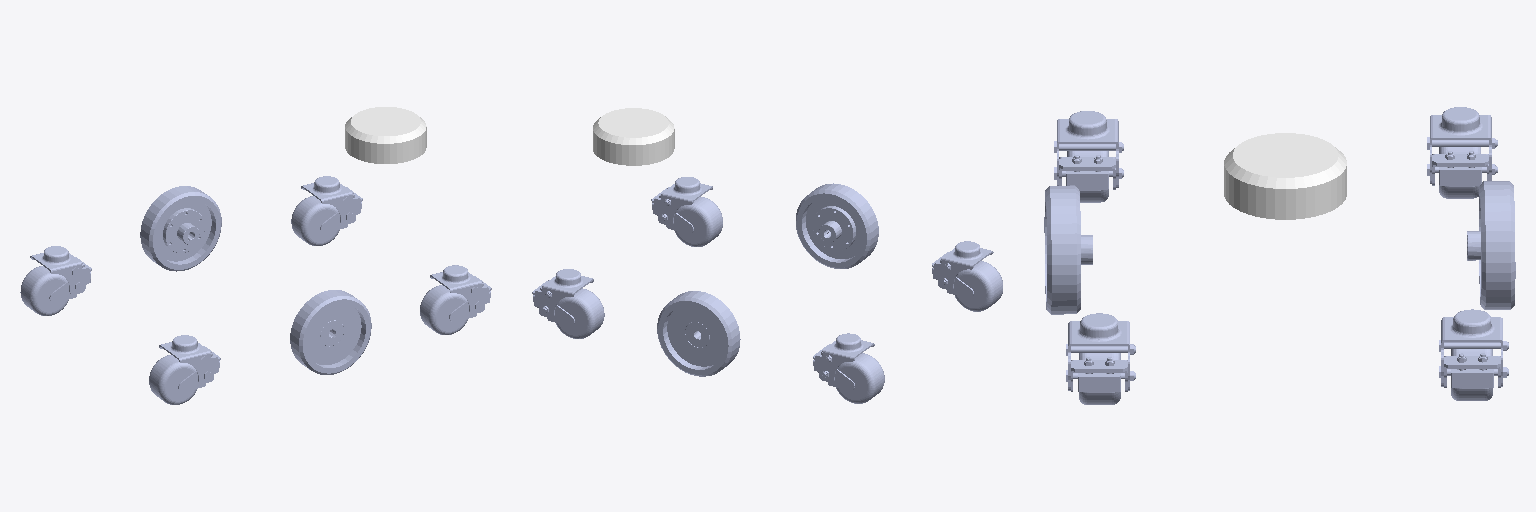
URDF robot description (amr_model):
<?xml version="1.0" encoding="utf-8"?>
<!-- This URDF was automatically created by SolidWorks to URDF Exporter! Originally created by [author] ([email redacted]) 
     Commit Version: 1.6.0-4-g7f85cfe  Build Version: 1.6.7995.38578
     For more information, please see http://wiki.ros.org/sw_urdf_exporter -->
<robot name="amr_model">
  <!--xacro:include filename="$(find amr_description)/urdf/amr_model.gazebo.xacro"/-->
  

  <link name="base_footprint"/>

  <link
  name="base_link">
  <inertial>
    <origin
      xyz="0.014554 0.00016485 0.10329"
      rpy="0 0 0" />
    <mass
      value="23.478" />
    <inertia
      ixx="0.18885"
      ixy="0.00049266"
      ixz="0.00020396"
      iyy="0.16875"
      iyz="-1.6092E-06"
      izz="0.23165" />
  </inertial>
  <visual>
    <origin
      xyz="0 0 0"
      rpy="0 0 0" />
    <geometry>
      <mesh
        filename="package://amr_description/meshes/base_link.STL" />
    </geometry>
    <material
      name="">
      <color
        rgba="0.79216 0.81961 0.93333 1" />
    </material>
  </visual>
  <collision>
    <origin
      xyz="0 0 0"
      rpy="0 0 0" />
    <geometry>
      <mesh
        filename="package://amr_description/meshes/base_link.STL" />
    </geometry>
  </collision>
</link>

<joint name="base_footprint_joint" type="fixed" >
  <parent link="base_footprint"/>
  <child link="base_link"/>
  <origin xyz="0.0 0.0 0.0225" rpy="0.0 0.0 0.0"/>
</joint>  

<link
  name="left_wheel_link">
  <inertial>
    <origin
      xyz="-5.9137E-06 9.0517E-06 -0.0021218"
      rpy="0 0 0" />
    <mass
      value="0.42831" />
    <inertia
      ixx="0.00075914"
      ixy="-1.8039E-08"
      ixz="-3.3253E-08"
      iyy="0.00075916"
      iyz="5.0898E-08"
      izz="0.001427" />
  </inertial>
  <visual>
    <origin
      xyz="0 0 0"
      rpy="0 0 0" />
    <geometry>
      <mesh
        filename="package://amr_description/meshes/left_wheel_link.STL" />
    </geometry>
    <material
      name="">
      <color
        rgba="0.79216 0.81961 0.93333 1" />
    </material>
  </visual>
  <collision>
    <origin
      xyz="0 0 0"
      rpy="0 0 0" />
    <geometry>
      <mesh
        filename="package://amr_description/meshes/left_wheel_link.STL" />
    </geometry>
  </collision>
</link>

<joint
  name="left_wheel_joint"
  type="continuous">
  <origin
    xyz="-0.0062617 0.25592 0.0535"
    rpy="1.5708 0 -3.1171" />
  <parent
    link="base_link" />
  <child
    link="left_wheel_link" />
  <axis
    xyz="0 0 1" />
</joint>

<link
  name="right_wheel_link">
  <inertial>
    <origin
      xyz="6.2045E-06 8.855E-06 0.0021218"
      rpy="0 0 0" />
    <mass
      value="0.42831" />
    <inertia
      ixx="0.00075914"
      ixy="1.8515E-08"
      ixz="-3.4888E-08"
      iyy="0.00075916"
      iyz="-4.9791E-08"
      izz="0.001427" />
  </inertial>
  <visual>
    <origin
      xyz="0 0 0"
      rpy="0 0 0" />
    <geometry>
      <mesh
        filename="package://amr_description/meshes/right_wheel_link.STL" />
    </geometry>
    <material
      name="">
      <color
        rgba="0.79216 0.81961 0.93333 1" />
    </material>
  </visual>
  <collision>
    <origin
      xyz="0 0 0"
      rpy="0 0 0" />
    <geometry>
      <mesh
        filename="package://amr_description/meshes/right_wheel_link.STL" />
    </geometry>
  </collision>
</link>
<joint
  name="right_wheel_joint"
  type="continuous">
  <origin
    xyz="0.0062617 -0.25592 0.0535"
    rpy="1.5708 0 -3.1171" />
  <parent
    link="base_link" />
  <child
    link="right_wheel_link" />
  <axis
    xyz="0 0 1" />
</joint>
<link
  name="caster1_link">
  <inertial>
    <origin
      xyz="-0.013313 -0.00013952 -0.03353"
      rpy="0 0 0" />
    <mass
      value="0.17421" />
    <inertia
      ixx="0.00016022"
      ixy="3.8557E-09"
      ixz="-5.136E-06"
      iyy="0.0001233"
      iyz="1.5883E-10"
      izz="0.00018347" />
  </inertial>
  <visual>
    <origin
      xyz="0 0 0"
      rpy="0 0 0" />
    <geometry>
      <mesh
        filename="package://amr_description/meshes/caster1_link.STL" />
    </geometry>
    <material
      name="">
      <color
        rgba="0.79216 0.81961 0.93333 1" />
    </material>
  </visual>
  <collision>
    <origin
      xyz="0 0 0"
      rpy="0 0 0" />
    <geometry>
      <mesh
        filename="package://amr_description/meshes/caster1_link.STL" />
    </geometry>
  </collision>
</link>
<joint
  name="caster1_joint"
  type="continuous">
  <origin
    xyz="0.2878 -0.21302 0.0935"
    rpy="0 0 3.1416" />
  <parent
    link="base_link" />
  <child
    link="caster1_link" />
  <axis
    xyz="0 0 1" />
</joint>
<link
  name="caster1_wheel_link">
  <inertial>
    <origin
      xyz="-8.1046E-15 2.2204E-16 -2.1372E-15"
      rpy="0 0 0" />
    <mass
      value="0.26385" />
    <inertia
      ixx="0.00016528"
      ixy="3.735E-21"
      ixz="4.6341E-20"
      iyy="0.00016528"
      iyz="1.6485E-20"
      izz="0.0002273" />
  </inertial>
  <visual>
    <origin
      xyz="0 0 0"
      rpy="0 0 0" />
    <geometry>
      <mesh
        filename="package://amr_description/meshes/caster1_wheel_link.STL" />
    </geometry>
    <material
      name="">
      <color
        rgba="0.79216 0.81961 0.93333 1" />
    </material>
  </visual>
  <collision>
    <origin
      xyz="0 0 0"
      rpy="0 0 0" />
    <geometry>
      <mesh
        filename="package://amr_description/meshes/caster1_wheel_link.STL" />
    </geometry>
  </collision>
</link>
<joint
  name="caster1_wheel_joint"
  type="continuous">
  <origin
    xyz="0.0215 -0.0005 -0.074"
    rpy="-1.5708 0 0" />
  <parent
    link="caster1_link" />
  <child
    link="caster1_wheel_link" />
  <axis
    xyz="0 0 1" />
</joint>

<link
  name="caster2_link">
  <inertial>
    <origin
      xyz="-0.013313 -0.00013953 -0.03353"
      rpy="0 0 0" />
    <mass
      value="0.17421" />
    <inertia
      ixx="0.00016022"
      ixy="3.8383E-09"
      ixz="-5.136E-06"
      iyy="0.0001233"
      iyz="1.4002E-10"
      izz="0.00018347" />
  </inertial>
  <visual>
    <origin
      xyz="0 0 0"
      rpy="0 0 0" />
    <geometry>
      <mesh
        filename="package://amr_description/meshes/caster2_link.STL" />
    </geometry>
    <material
      name="">
      <color
        rgba="0.79216 0.81961 0.93333 1" />
    </material>
  </visual>
  <collision>
    <origin
      xyz="0 0 0"
      rpy="0 0 0" />
    <geometry>
      <mesh
        filename="package://amr_description/meshes/caster2_link.STL" />
    </geometry>
  </collision>
</link>
<joint
  name="caster2_joint"
  type="continuous">
  <origin
    xyz="-0.27703 -0.22684 0.0935"
    rpy="0 0 3.1416" />
  <parent
    link="base_link" />
  <child
    link="caster2_link" />
  <axis
    xyz="0 0 1" />
</joint>
<link
  name="caster2_wheel_link">
  <inertial>
    <origin
      xyz="-8.9789E-15 0 -7.3552E-16"
      rpy="0 0 0" />
    <mass
      value="0.26385" />
    <inertia
      ixx="0.00016528"
      ixy="-3.2044E-22"
      ixz="-8.6895E-21"
      iyy="0.00016528"
      iyz="1.61E-20"
      izz="0.0002273" />
  </inertial>
  <visual>
    <origin
      xyz="0 0 0"
      rpy="0 0 0" />
    <geometry>
      <mesh
        filename="package://amr_description/meshes/caster2_wheel_link.STL" />
    </geometry>
    <material
      name="">
      <color
        rgba="0.79216 0.81961 0.93333 1" />
    </material>
  </visual>
  <collision>
    <origin
      xyz="0 0 0"
      rpy="0 0 0" />
    <geometry>
      <mesh
        filename="package://amr_description/meshes/caster2_wheel_link.STL" />
    </geometry>
  </collision>
</link>
<joint
  name="caster2_wheel_joint"
  type="continuous">
  <origin
    xyz="0.0215 -0.0005 -0.074"
    rpy="-1.5708 0 0" />
  <parent
    link="caster2_link" />
  <child
    link="caster2_wheel_link" />
  <axis
    xyz="0 0 1" />
</joint>
<link
  name="caster3_link">
  <inertial>
    <origin
      xyz="-0.013313 -0.00013953 -0.03353"
      rpy="0 0 0" />
    <mass
      value="0.17421" />
    <inertia
      ixx="0.00016022"
      ixy="3.8392E-09"
      ixz="-5.136E-06"
      iyy="0.0001233"
      iyz="1.3855E-10"
      izz="0.00018347" />
  </inertial>
  <visual>
    <origin
      xyz="0 0 0"
      rpy="0 0 0" />
    <geometry>
      <mesh
        filename="package://amr_description/meshes/caster3_link.STL" />
    </geometry>
    <material
      name="">
      <color
        rgba="0.79216 0.81961 0.93333 1" />
    </material>
  </visual>
  <collision>
    <origin
      xyz="0 0 0"
      rpy="0 0 0" />
    <geometry>
      <mesh
        filename="package://amr_description/meshes/caster3_link.STL" />
    </geometry>
  </collision>
</link>
<joint
  name="caster3_joint"
  type="continuous">
  <origin
    xyz="-0.2878 0.21302 0.0935"
    rpy="0 0 3.1416" />
  <parent
    link="base_link" />
  <child
    link="caster3_link" />
  <axis
    xyz="0 0 1" />
</joint>
<link
  name="caster3_wheel_link">
  <inertial>
    <origin
      xyz="-8.6459E-15 -8.3267E-17 9.992E-16"
      rpy="0 0 0" />
    <mass
      value="0.26385" />
    <inertia
      ixx="0.00016528"
      ixy="1.5381E-20"
      ixz="8.085E-21"
      iyy="0.00016528"
      iyz="-1.2328E-20"
      izz="0.0002273" />
  </inertial>
  <visual>
    <origin
      xyz="0 0 0"
      rpy="0 0 0" />
    <geometry>
      <mesh
        filename="package://amr_description/meshes/caster3_wheel_link.STL" />
    </geometry>
    <material
      name="">
      <color
        rgba="0.79216 0.81961 0.93333 1" />
    </material>
  </visual>
  <collision>
    <origin
      xyz="0 0 0"
      rpy="0 0 0" />
    <geometry>
      <mesh
        filename="package://amr_description/meshes/caster3_wheel_link.STL" />
    </geometry>
  </collision>
</link>
<joint
  name="caster3_wheel_joint"
  type="continuous">
  <origin
    xyz="0.0215000000000007 0.000499999999999723 -0.0739999999999998"
    rpy="1.5707963267949 0 0" />
  <parent
    link="caster3_link" />
  <child
    link="caster3_wheel_link" />
  <axis
    xyz="0 0 1" />
</joint>
<link
  name="caster4_link">
  <inertial>
    <origin
      xyz="-0.013313 -0.00013952 -0.03353"
      rpy="0 0 0" />
    <mass
      value="0.17421" />
    <inertia
      ixx="0.00016022"
      ixy="3.8579E-09"
      ixz="-5.136E-06"
      iyy="0.0001233"
      iyz="1.5609E-10"
      izz="0.00018347" />
  </inertial>
  <visual>
    <origin
      xyz="0 0 0"
      rpy="0 0 0" />
    <geometry>
      <mesh
        filename="package://amr_description/meshes/caster4_link.STL" />
    </geometry>
    <material
      name="">
      <color
        rgba="0.79216 0.81961 0.93333 1" />
    </material>
  </visual>
  <collision>
    <origin
      xyz="0 0 0"
      rpy="0 0 0" />
    <geometry>
      <mesh
        filename="package://amr_description/meshes/caster4_link.STL" />
    </geometry>
  </collision>
</link>
<joint
  name="caster4_joint"
  type="continuous">
  <origin
    xyz="0.27703 0.22684 0.0935"
    rpy="0 0 3.1416" />
  <parent
    link="base_link" />
  <child
    link="caster4_link" />
  <axis
    xyz="0 0 1" />
</joint>
<link
  name="caster4_wheel_link">
  <inertial>
    <origin
      xyz="-9.3814E-15 5.5511E-17 2.7756E-15"
      rpy="0 0 0" />
    <mass
      value="0.26385" />
    <inertia
      ixx="0.00016528"
      ixy="-8.3685E-22"
      ixz="-3.0215E-20"
      iyy="0.00016528"
      iyz="-2.2882E-20"
      izz="0.0002273" />
  </inertial>
  <visual>
    <origin
      xyz="0 0 0"
      rpy="0 0 0" />
    <geometry>
      <mesh
        filename="package://amr_description/meshes/caster4_wheel_link.STL" />
    </geometry>
    <material
      name="">
      <color
        rgba="0.79216 0.81961 0.93333 1" />
    </material>
  </visual>
  <collision>
    <origin
      xyz="0 0 0"
      rpy="0 0 0" />
    <geometry>
      <mesh
        filename="package://amr_description/meshes/caster4_wheel_link.STL" />
    </geometry>
  </collision>
</link>
<joint
  name="caster4_wheel_joint"
  type="continuous">
  <origin
    xyz="0.0215 0.0005 -0.074"
    rpy="1.5708 0 0" />
  <parent
    link="caster4_link" />
  <child
    link="caster4_wheel_link" />
  <axis
    xyz="0 0 1" />
</joint>
<link
  name="lidar_link">
  <inertial>
    <origin
      xyz="0 0 -0.02"
      rpy="0 0 0" />
    <mass
      value="0" />
    <inertia
      ixx="0"
      ixy="0"
      ixz="0"
      iyy="0"
      iyz="0"
      izz="0" />
  </inertial>
  <visual>
    <origin
      xyz="0 0 -0.02"
      rpy="0 0 0" />
    <geometry>
      <mesh
        filename="package://amr_description/meshes/lidar_link.STL" />
    </geometry>
    <material
      name="">
      <color
        rgba="1 1 1 1" />
    </material>
  </visual>
  <!--collision>
    <origin
      xyz="0 0 -0.02"
      rpy="0 0 0" />
    <geometry>
      <mesh
        filename="package://amr_description/meshes/lidar_link.STL" />
    </geometry>
  </collision>
-->
</link>
<joint
  name="lidar_joint"
  type="fixed">
  <origin
    xyz="0.27091 0.0066283 0.27"
    rpy="0 0 0" />
  <parent
    link="base_link" />
  <child
    link="lidar_link" />
  <axis
    xyz="0 0 1" />
</joint>

  <!--IMU-->
  <link name="imu_link"/>  
  <joint name="imu_joint" type="fixed" >
    <parent link="base_link"/>
    <child link="imu_link"/>
    <origin xyz="0.014527 -0.00019118 0.1033" rpy="0 0 0" />
  </joint>
    



  <gazebo reference="base_link">
    <material>Gazebo/White</material>
</gazebo>  

<gazebo reference="left_wheel_link">
    <mu1>1</mu1>
    <mu2>1</mu2>
    <kp>1000000.0</kp>
    <kd>10.0</kd>
    <minDepth>0.001</minDepth>
    <maxVel>0.1</maxVel>
    <fdir1>1 0 0</fdir1>
    <material>Gazebo/ZincYellow</material>
  </gazebo>

  <gazebo reference="right_wheel_link">
    <mu1>1.0</mu1>
    <mu2>1.0</mu2>
    <kp>1000000.0</kp>
    <kd>10.0</kd>
    <minDepth>0.001</minDepth>
    <maxVel>0.1</maxVel>
    <fdir1>1 0 0</fdir1>
    <material>Gazebo/ZincYellow</material>
  </gazebo>

  <gazebo reference="caster1_link">
    <mu1>0.01</mu1>
    <mu2>0.01</mu2>
    <kp>500000.0</kp>
    <kd>10.0</kd>
    <material>Gazebo/FlatBlack</material>
  </gazebo>
  <gazebo reference="caster2_link">
    <mu1>0.01</mu1>
    <mu2>0.01</mu2>
    <kp>500000.0</kp>
    <kd>10.0</kd>
    <material>Gazebo/FlatBlack</material>
  </gazebo>
  <gazebo reference="caster3_link"> 
    <mu1>0.01</mu1>
    <mu2>0.01</mu2>
    <kp>500000.0</kp>
    <kd>10.0</kd>
    <material>Gazebo/FlatBlack</material>
  </gazebo>
  <gazebo reference="caster4_link">
    <mu1>0.01</mu1>
    <mu2>0.01</mu2>
    <kp>500000.0</kp>
    <kd>10.0</kd>
    <material>Gazebo/FlatBlack</material>
  </gazebo>

  <gazebo reference="caster1_wheel_link">
    <mu1>0.3</mu1>
    <mu2>0.3</mu2>
    <kp>500000.0</kp>
    <kd>10.0</kd>
    <minDepth>0.001</minDepth>
    <maxVel>0.1</maxVel>
    <fdir1>1 0 0</fdir1>
    <material>Gazebo/ZincYellow</material>
  </gazebo>      
  <gazebo reference="caster2_wheel_link">
    <mu1>0.3</mu1>
    <mu2>0.3</mu2>
    <kp>500000.0</kp>
    <kd>10.0</kd>
    <minDepth>0.001</minDepth>
    <maxVel>0.1</maxVel>
    <fdir1>1 0 0</fdir1>
    <material>Gazebo/ZincYellow</material>
  </gazebo>
  <gazebo reference="caster3_wheel_link">
    <mu1>0.3</mu1>
    <mu2>0.3</mu2>
    <kp>500000.0</kp>
    <kd>10.0</kd>
    <minDepth>0.001</minDepth>
    <maxVel>0.1</maxVel>
    <fdir1>1 0 0</fdir1>
    <material>Gazebo/ZincYellow</material>
  </gazebo>
  <gazebo reference="caster4_wheel_link">
    <mu1>0.3</mu1>
    <mu2>0.3</mu2>
    <kp>500000.0</kp>
    <kd>10.0</kd>
    <minDepth>0.001</minDepth>
    <maxVel>0.1</maxVel>
    <fdir1>1 0 0</fdir1>
    <material>Gazebo/ZincYellow</material>
  </gazebo>

  <gazebo reference="lidar_link">
    <material>Gazebo/FlatBlack</material>
    <sensor type="ray" name="lds_lfcd_sensor">
      <pose>0 0 0 0 0 0</pose>
      <visualize>true</visualize>
      <update_rate>5</update_rate>
      <ray>
        <scan>
          <horizontal>
            <samples>360</samples>
            <resolution>1</resolution>
            <min_angle>0.0</min_angle>
            <max_angle>6.28319</max_angle>
          </horizontal>
        </scan>
        <range>
          <min>0.120</min>
          <max>3.5</max>
          <resolution>0.015</resolution>
        </range>
        <noise>
          <type>gaussian</type>
          <mean>0.0</mean>
          <stddev>0.01</stddev>
        </noise>
      </ray>
      <plugin name="gazebo_ros_lds_lfcd_controller" filename="libgazebo_ros_laser.so">
        <topicName>scan</topicName>
        <frameName>lidar_link</frameName>
      </plugin>
    </sensor>
  </gazebo>

  <gazebo reference="imu_link">
    <sensor type="imu" name="imu">
      <always_on>true</always_on>
      <visualize>true</visualize>
    </sensor>
  </gazebo>

  <gazebo>
    <plugin name="imu_plugin" filename="libgazebo_ros_imu.so">
      <alwaysOn>true</alwaysOn>
      <bodyName>imu_link</bodyName>
      <frameName>imu_link</frameName>
      <topicName>imu</topicName>
      <serviceName>imu_service</serviceName>
      <gaussianNoise>0.0</gaussianNoise>
      <updateRate>0</updateRate>
      <imu>
        <noise>
          <type>gaussian</type>
          <rate>
            <mean>0.0</mean>
            <stddev>2e-4</stddev>
            <bias_mean>0.0000075</bias_mean>
            <bias_stddev>0.0000008</bias_stddev>
          </rate>
          <accel>
            <mean>0.0</mean>
            <stddev>1.7e-2</stddev>
            <bias_mean>0.1</bias_mean>
            <bias_stddev>0.001</bias_stddev>
          </accel>
        </noise>
      </imu>
    </plugin>
  </gazebo>

  <gazebo>
    <plugin name="amr_controller" filename="libgazebo_ros_diff_drive.so">
      <commandTopic>cmd_vel</commandTopic>
      <odometryTopic>odom</odometryTopic>
      <odometryFrame>odom</odometryFrame>
      <odometrySource>world</odometrySource>
      <publishOdomTF>true</publishOdomTF>
      <robotBaseFrame>base_footprint</robotBaseFrame>
      <publishWheelTF>false</publishWheelTF>
      <publishTf>true</publishTf>
      <publishWheelJointState>true</publishWheelJointState>
      <legacyMode>false</legacyMode>
      <updateRate>30</updateRate>
      <leftJoint>left_wheel_joint</leftJoint>
      <rightJoint>right_wheel_joint</rightJoint>
      <wheelSeparation>0.512</wheelSeparation>
      <wheelDiameter>0.152</wheelDiameter>
      <wheelAcceleration>1</wheelAcceleration>
      <wheelTorque>50</wheelTorque>
      <rosDebugLevel>na</rosDebugLevel>
    </plugin>
  </gazebo>
</robot>

--- Render facts (derived) ---
Views: 3 orthographic renders of the robot side by side, from view 1: azimuth 30°, elevation 25°; view 2: azimuth 150°, elevation 25°; view 3: azimuth 270°, elevation 25°.
Model amr_model with 14 links and 13 joints (10 continuous, 3 fixed), rooted at base_footprint, posed every joint at zero.
Visible links, largest first — view 1: left_wheel_link, right_wheel_link, lidar_link, caster3_link, caster1_link, caster2_link, caster4_link, caster1_wheel_link, caster2_wheel_link, caster4_wheel_link, caster3_wheel_link; view 2: left_wheel_link, right_wheel_link, lidar_link, caster3_link, caster4_link, caster1_link, caster2_link, caster3_wheel_link, caster4_wheel_link, caster2_wheel_link, caster1_wheel_link; view 3: lidar_link, left_wheel_link, right_wheel_link, caster4_link, caster3_link, caster2_link, caster1_link, caster4_wheel_link, caster1_wheel_link, caster3_wheel_link, caster2_wheel_link.
Link boxes in pixels (bbox=[...]): left_wheel_link: bbox=[140, 186, 221, 271]; right_wheel_link: bbox=[290, 290, 371, 374]; lidar_link: bbox=[345, 107, 426, 163]; caster3_link: bbox=[30, 246, 91, 302]; caster1_link: bbox=[430, 265, 491, 321]; caster2_link: bbox=[159, 335, 220, 391]; caster4_link: bbox=[301, 176, 362, 232]; caster1_wheel_link: bbox=[420, 285, 467, 334]; caster2_wheel_link: bbox=[149, 355, 196, 404]; caster4_wheel_link: bbox=[291, 196, 339, 245]; caster3_wheel_link: bbox=[20, 266, 68, 315]; left_wheel_link: bbox=[657, 291, 740, 376]; right_wheel_link: bbox=[796, 183, 878, 268]; lidar_link: bbox=[593, 108, 674, 165]; caster3_link: bbox=[813, 333, 874, 390]; caster4_link: bbox=[532, 269, 593, 325]; caster1_link: bbox=[651, 177, 712, 233]; caster2_link: bbox=[932, 241, 993, 297]; caster3_wheel_link: bbox=[836, 353, 884, 403]; caster4_wheel_link: bbox=[556, 288, 604, 338]; caster2_wheel_link: bbox=[955, 261, 1002, 311]; caster1_wheel_link: bbox=[674, 197, 722, 246]; lidar_link: bbox=[1224, 133, 1346, 219]; left_wheel_link: bbox=[1467, 181, 1515, 309]; right_wheel_link: bbox=[1044, 185, 1092, 314]; caster4_link: bbox=[1439, 309, 1508, 388]; caster3_link: bbox=[1427, 107, 1497, 186]; caster2_link: bbox=[1054, 111, 1123, 190]; caster1_link: bbox=[1066, 313, 1135, 392]; caster4_wheel_link: bbox=[1451, 349, 1492, 400]; caster1_wheel_link: bbox=[1079, 353, 1120, 404]; caster3_wheel_link: bbox=[1439, 147, 1480, 198]; caster2_wheel_link: bbox=[1067, 151, 1108, 202].
Size in the robot's own frame: 0.6961 by 0.5553 by 0.3225 metres.
11 mesh visuals loaded from 12 distinct referenced files (11 binary STL); not drawn: 1 (reference not matched to a file when rendering).
